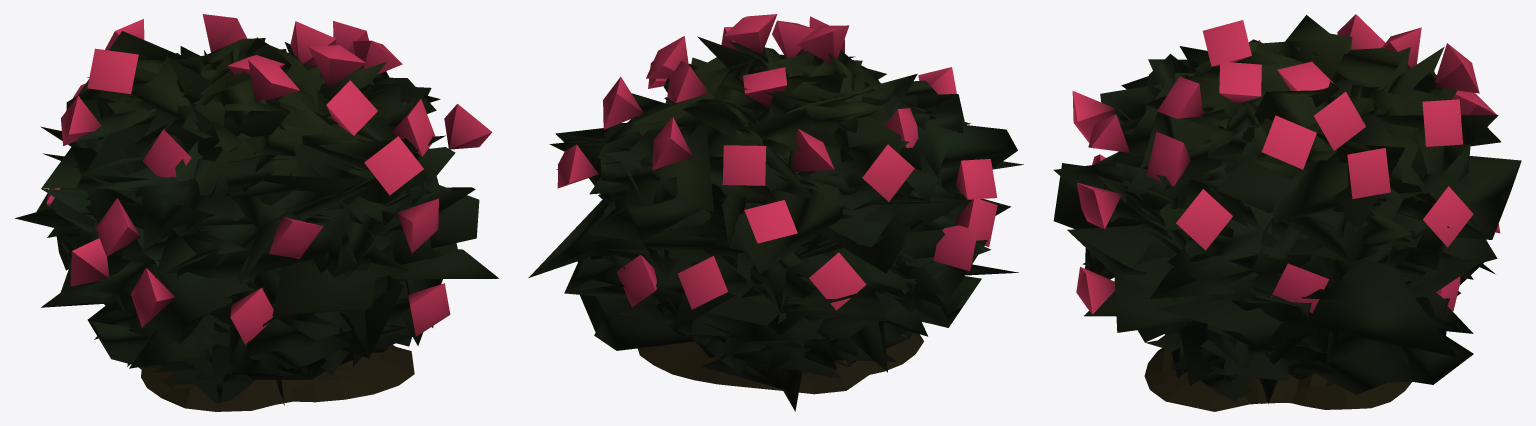
Rendered from PC_BushRoundPinkFlowers_1m.FBX.
3 renders of one model, left to right at view 1: azimuth 30°, elevation 25°; view 2: azimuth 150°, elevation 25°; view 3: azimuth 270°, elevation 25°, orthographic. The views are drawn at different scales.
Parts seen in each view (by area): view 1: BushRoundPinkFlowers_1m; view 2: BushRoundPinkFlowers_1m; view 3: BushRoundPinkFlowers_1m.
Part boxes in pixels (box(x1,y1,x2,y2)): BushRoundPinkFlowers_1m: box(15, 14, 498, 411); BushRoundPinkFlowers_1m: box(528, 14, 1023, 411); BushRoundPinkFlowers_1m: box(1053, 14, 1521, 411).
Size of the model in its own units: 1.3 by 1.02 by 1.28.
